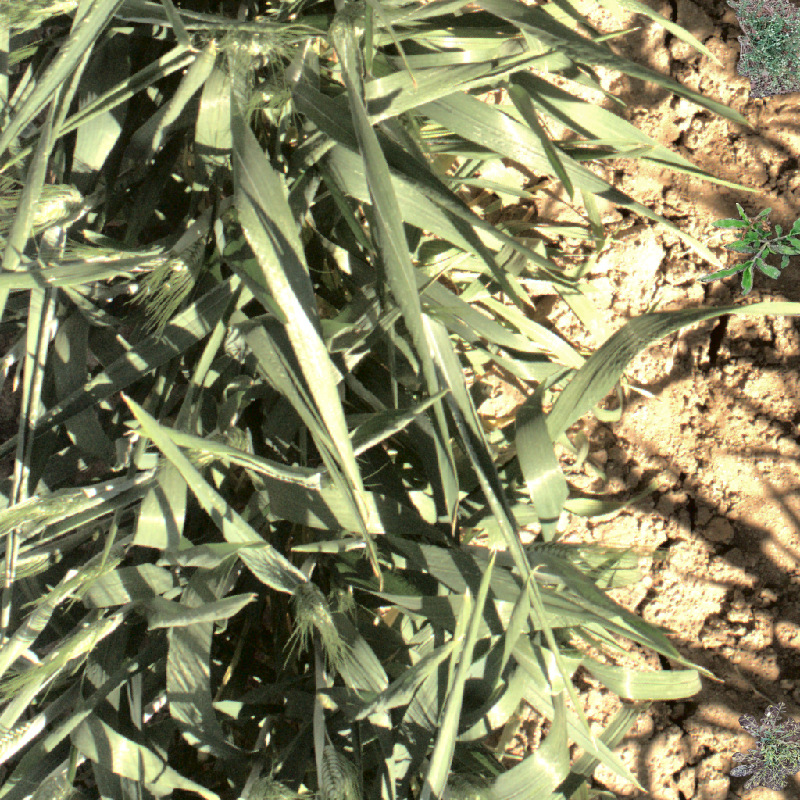spikelet: (71, 540, 140, 590), (164, 222, 215, 285), (1, 711, 48, 772), (1, 189, 90, 219), (519, 542, 606, 572), (320, 741, 364, 800), (291, 580, 331, 629), (224, 24, 280, 57), (238, 774, 300, 800), (759, 731, 799, 768)
weed: (705, 204, 800, 296), (730, 702, 800, 791), (739, 1, 800, 101)
